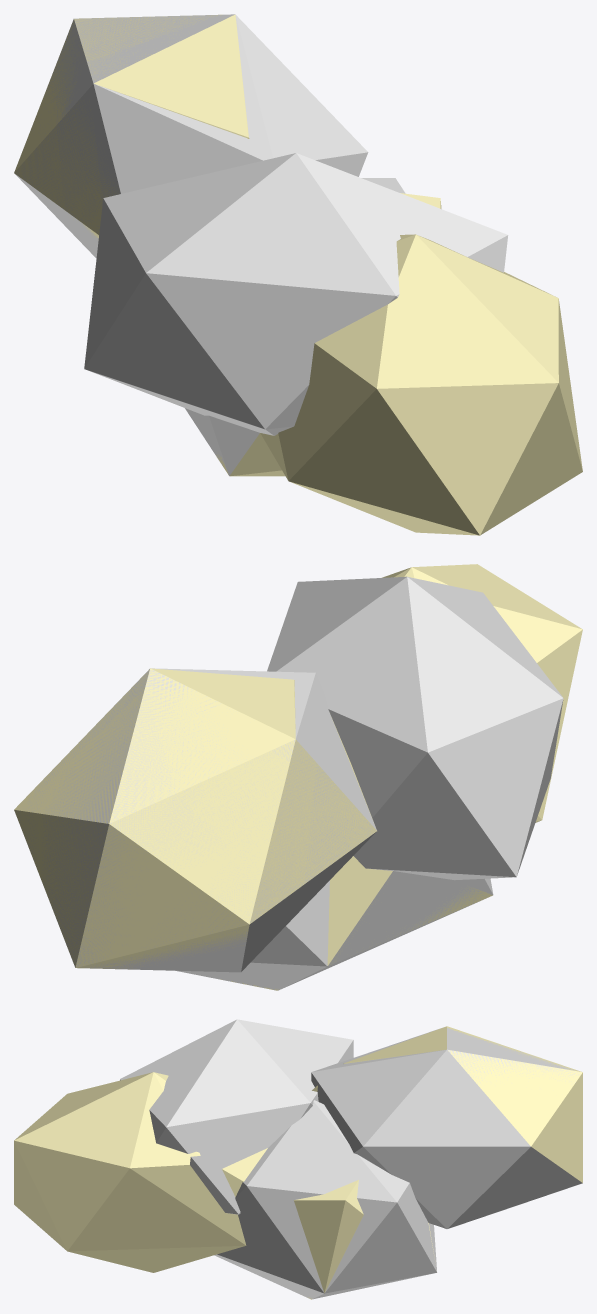
The model's file is cloud.fbx.
The picture shows the model from 3 angles, top to bottom: view 1: azimuth 30°, elevation 25°; view 2: azimuth 150°, elevation 25°; view 3: azimuth 270°, elevation 25°; orthographic projection. The views are drawn at different scales.
Visible parts, largest first — view 1: cloud, Icosphere.003, Icosphere.002, Icosphere.001; view 2: cloud, Icosphere.003, Icosphere.002, Icosphere.001; view 3: cloud, Icosphere.002, Icosphere.001, Icosphere.003.
Part boxes in pixels (box(x1,y1,x2,y2)): cloud: box(14, 14, 582, 535); Icosphere.003: box(84, 153, 508, 435); Icosphere.002: box(14, 14, 368, 258); Icosphere.001: box(185, 178, 405, 475); cloud: box(14, 564, 582, 990); Icosphere.003: box(267, 576, 563, 880); Icosphere.002: box(17, 668, 376, 972); Icosphere.001: box(175, 871, 493, 990); cloud: box(14, 1026, 582, 1299); Icosphere.002: box(311, 1028, 582, 1228); Icosphere.001: box(214, 1100, 437, 1299); Icosphere.003: box(120, 1019, 353, 1214).
Bounding box in the file's own units: 270 × 257 × 513.
